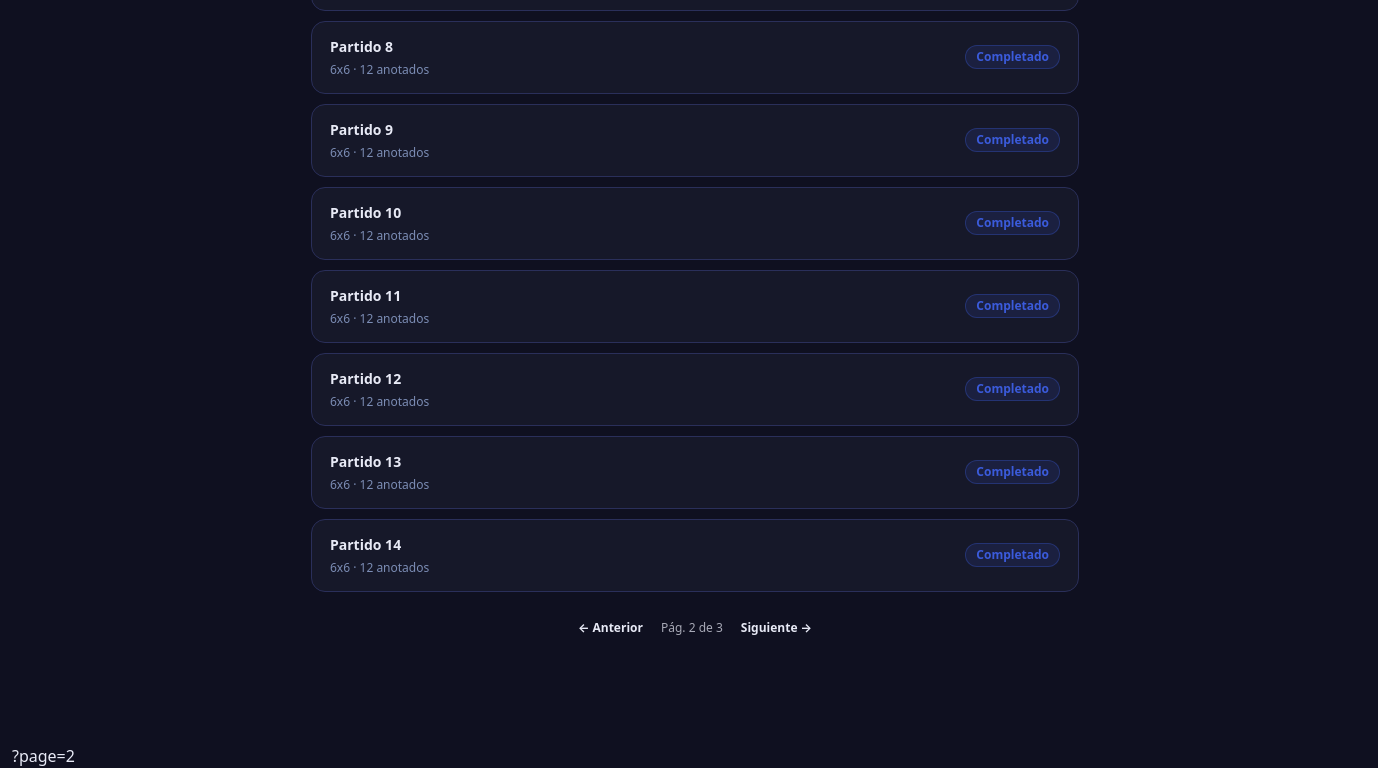
Test: HomePage › usa la paginación compartida y conserva la página en la URL
(page scrolled)
Expected: the text "Pág. 2 de 3" is shown, x1=661 y1=618 x2=723 y2=636
Click the button "Siguiente →": (776, 628) x1=731 y1=604 x2=822 y2=652
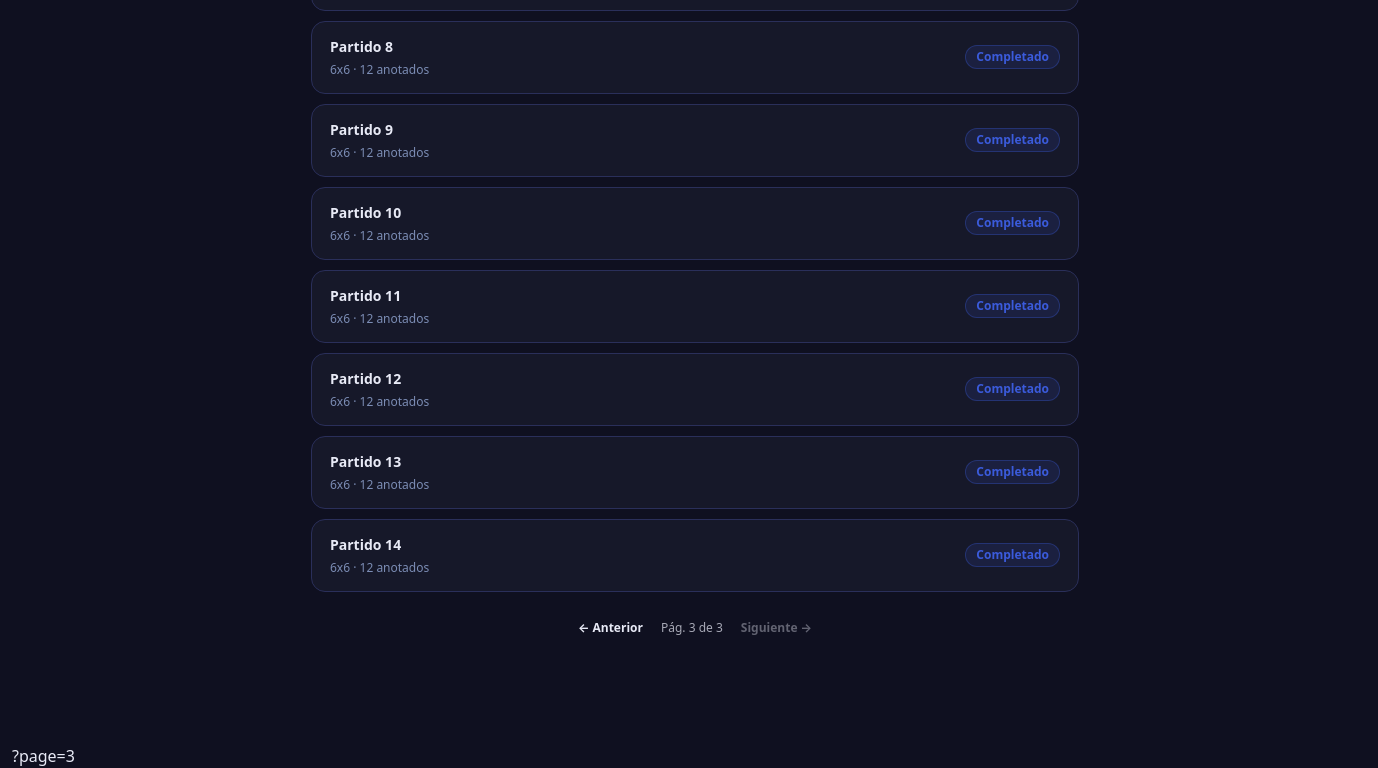
Now the text named "ubicación" reads "?page=3", box x1=12 y1=744 x2=75 y2=766
